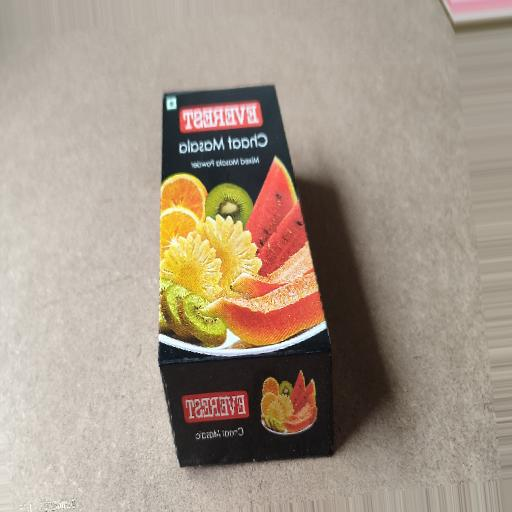Everest Chaat Masala: (96, 69, 388, 479)
